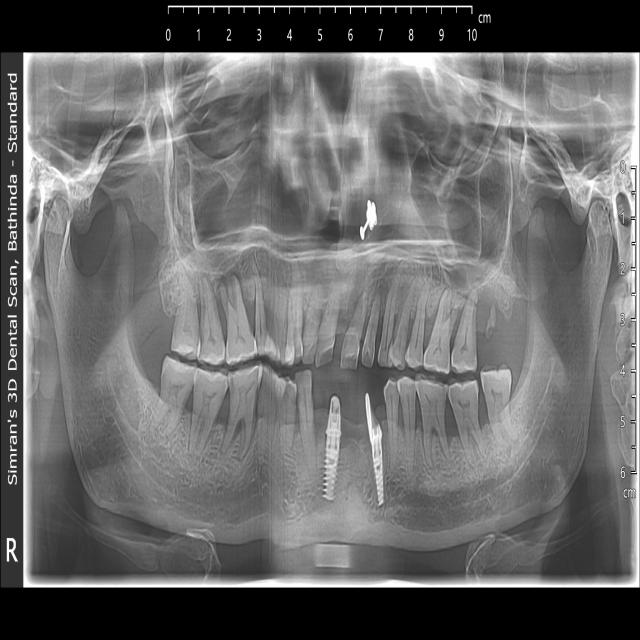Caries: (254, 382, 302, 422)
Implant: (322, 394, 342, 502), (364, 398, 383, 504)
Periapical lesion: (432, 279, 466, 328), (215, 266, 247, 315), (160, 355, 194, 397), (185, 414, 215, 460), (195, 366, 228, 405), (417, 377, 445, 414), (200, 267, 216, 299)
Root Piece: (482, 304, 494, 344)
